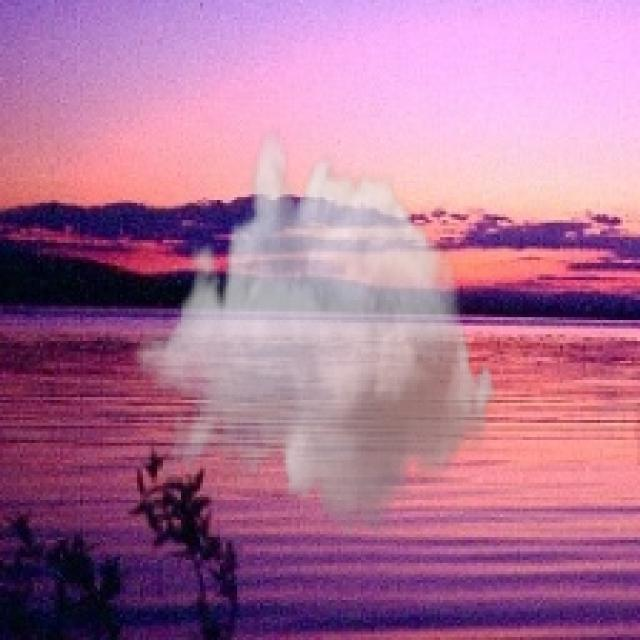Smoke: (134, 125, 500, 546)
